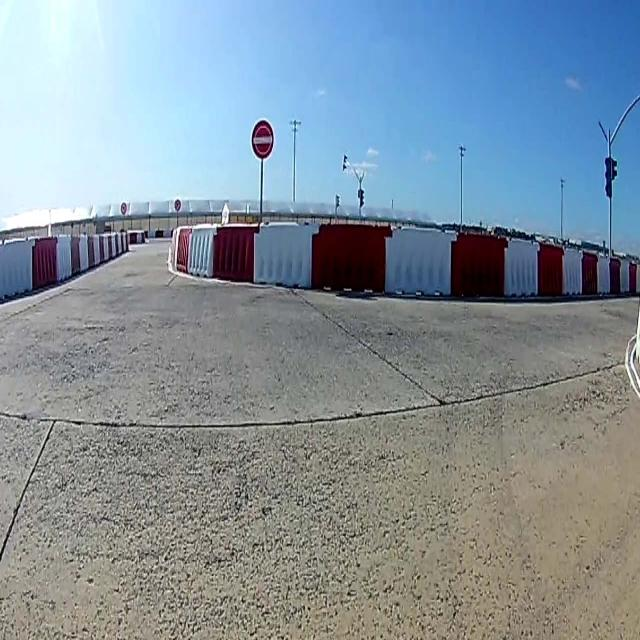girisyok: (254, 125, 272, 155)
